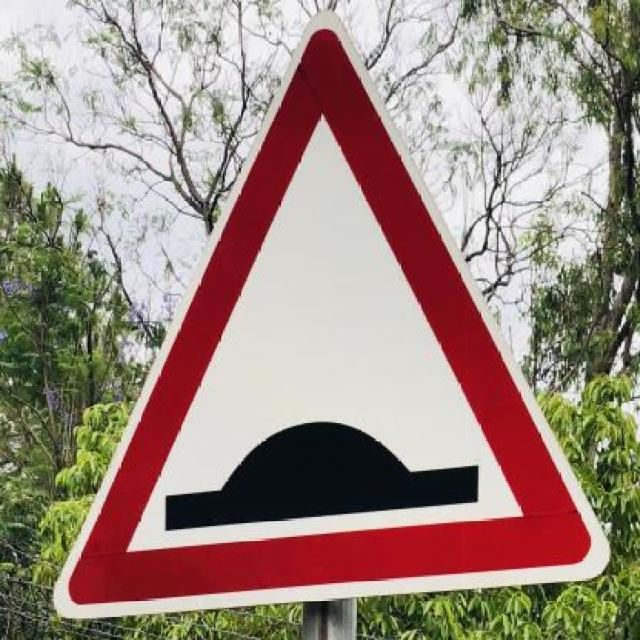hump or rough road: (46, 30, 591, 601)
